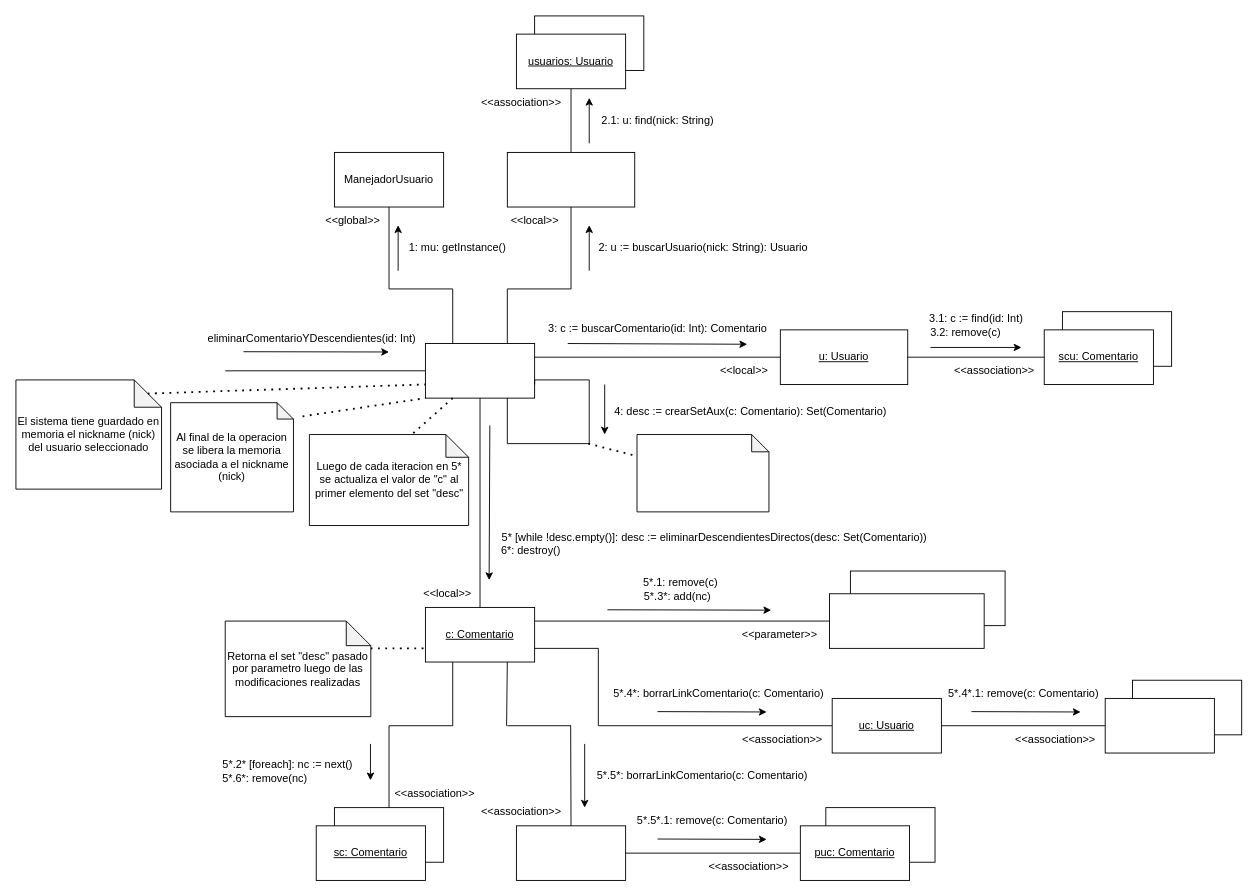
Image size: 1258x896. Some labels were removed from this diagram. The shapes that lost their labels are listed below. From the top down, each one's centre as x and y in pixels, then its label:
[570,179]: mu: ManejadorUsuario
[480,370]: : CtrlComentario
[702,473]: Retorna un set "desc" con el comentario "c" enviado por parametro
[906,620]: desc: Comentario
[1159,725]: suc: Comentario
[571,852]: p: Producto
